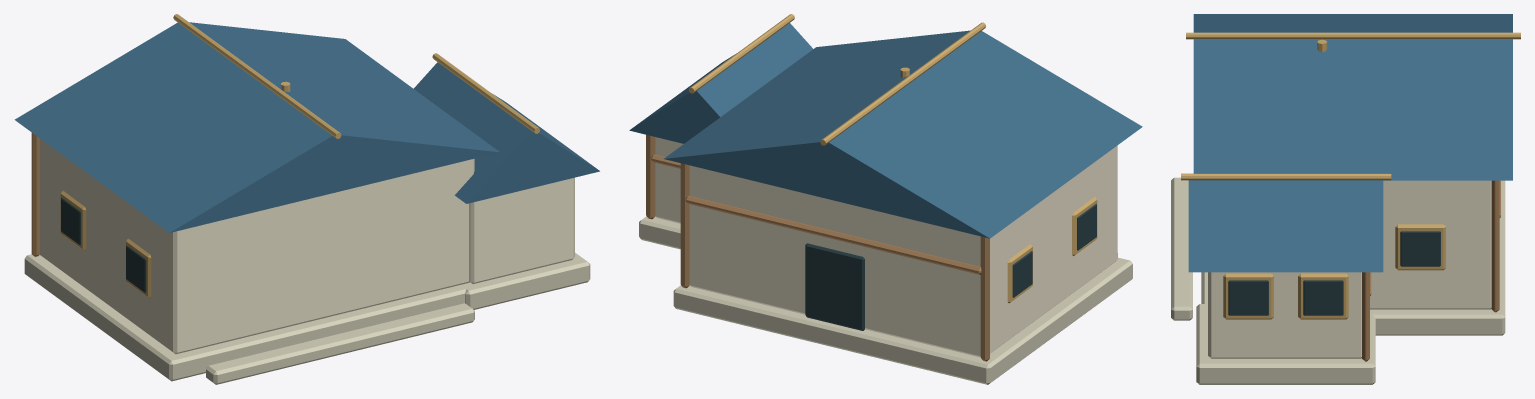
File: level_07.glb
The picture shows the model from 3 angles, left to right: view 1: azimuth 30°, elevation 25°; view 2: azimuth 150°, elevation 25°; view 3: azimuth 270°, elevation 25°; orthographic projection. The views are drawn at different scales.
Parts seen in each view (by area): view 1: warehouse — level 07; view 2: warehouse — level 07; view 3: warehouse — level 07.
Part boxes in pixels (bbox=[...]): warehouse — level 07: bbox=[14, 14, 599, 384]; warehouse — level 07: bbox=[629, 14, 1142, 384]; warehouse — level 07: bbox=[1171, 14, 1520, 384].
Size of the model in its own units: 6.56 by 3.16 by 4.49.
